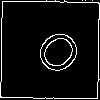O: (25, 25, 86, 86)
